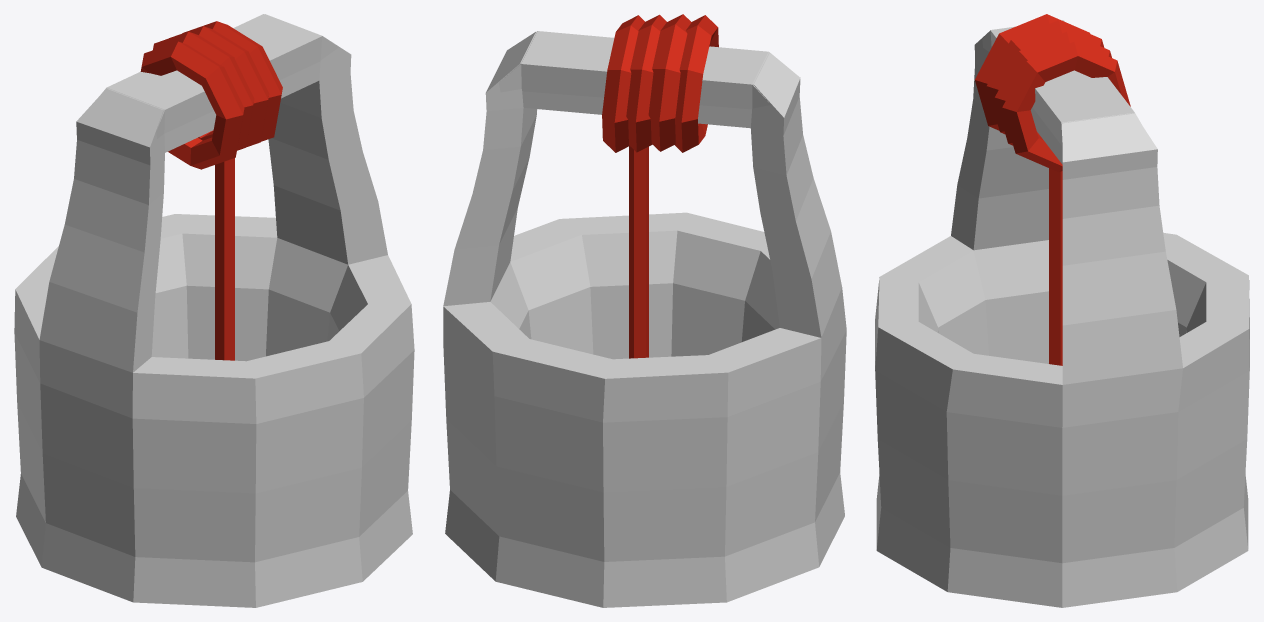
File: well.fbx
3 views of the same model, side by side, from view 1: azimuth 30°, elevation 25°; view 2: azimuth 150°, elevation 25°; view 3: azimuth 270°, elevation 25° (orthographic). The views are drawn at different scales.
Parts seen in each view (by area): view 1: Torus.004; view 2: Torus.004; view 3: Torus.004.
Part boxes in pixels (box(x1,y1,x2,y2)): Torus.004: box(14, 14, 414, 607); Torus.004: box(443, 14, 846, 607); Torus.004: box(875, 14, 1249, 607).
Size of the model in its own units: 241 by 331 by 229.
